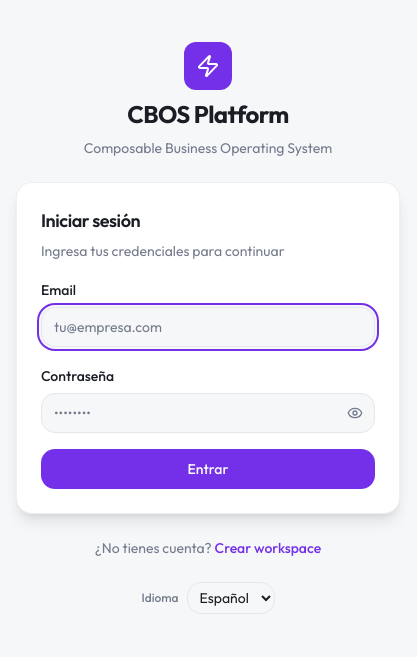
Test: Login, in Spanish › uses the catalogue's fallback when the failure has no message
Type "a@b.co" into the field labelled "Email". click: [208, 327]
box: [41,307,375,347]
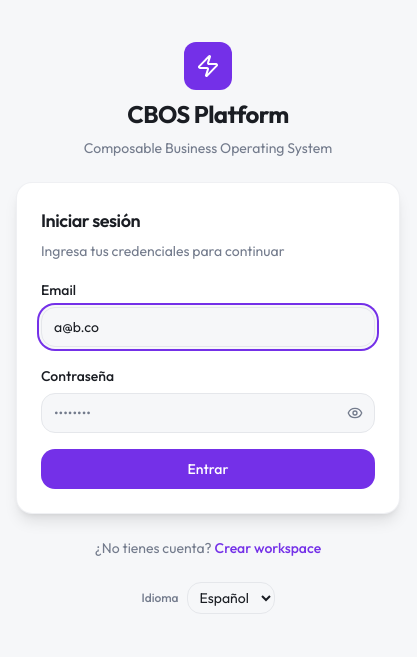
Type "x" into the password field labelled "Contraseña". click: [208, 413]
box: [41,393,375,433]
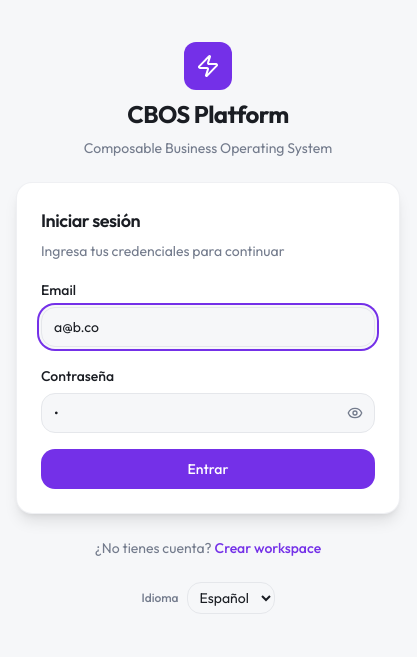
Click the button "Entrar". click: [208, 469]
box: [41,449,375,489]
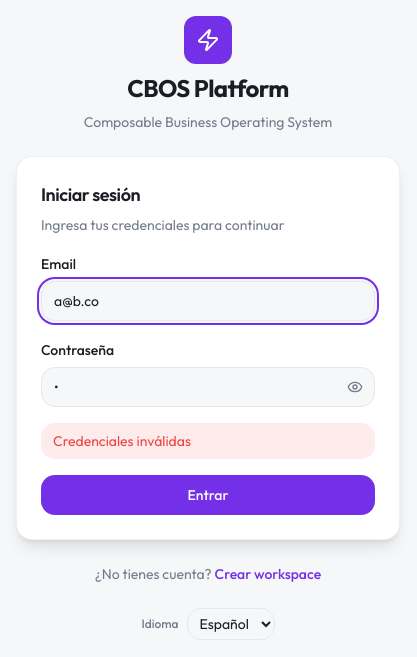
Expected: the text "Credenciales inválidas" is shown, [41,423,375,459]
